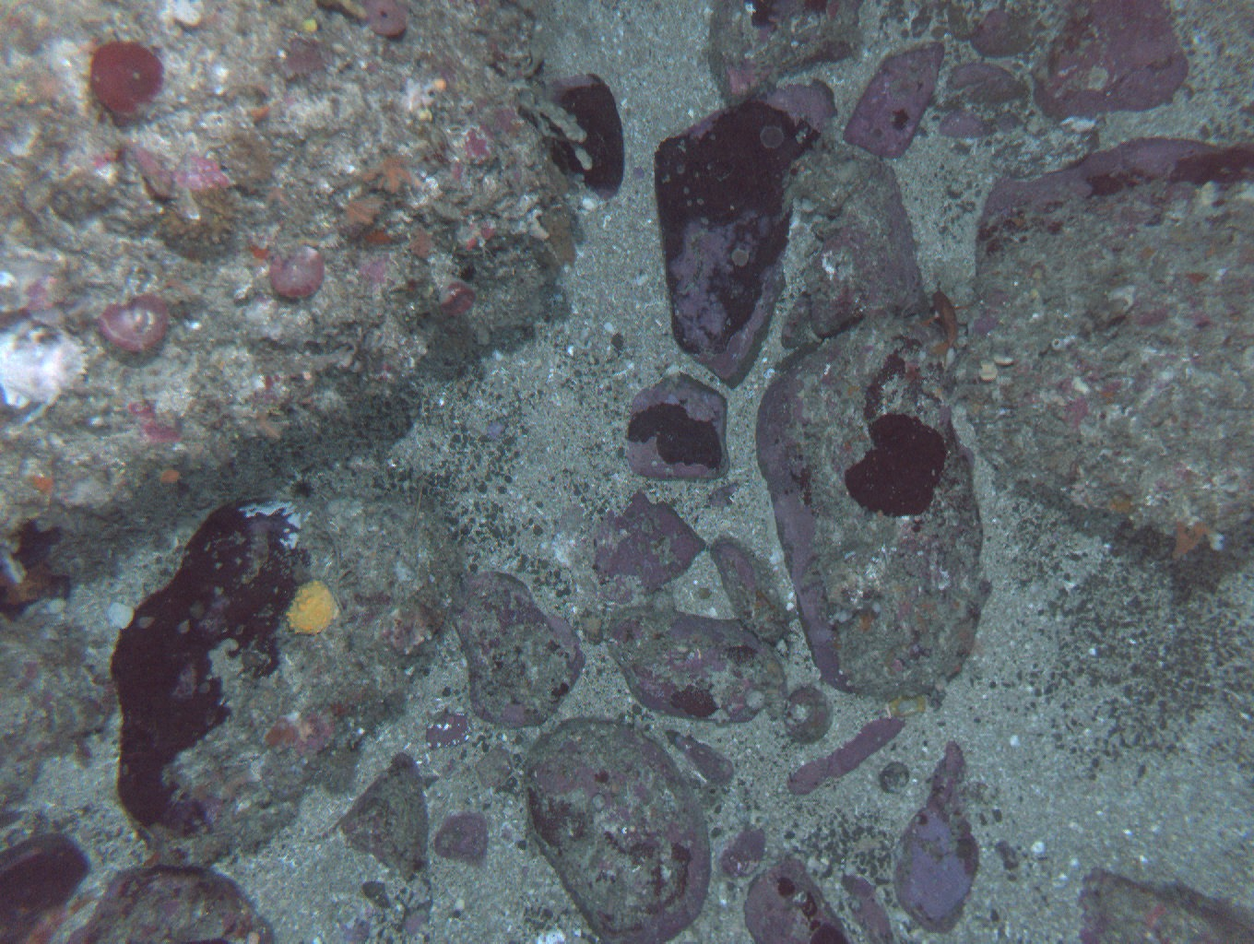Brachionichthyidae: (920, 281, 974, 357)
